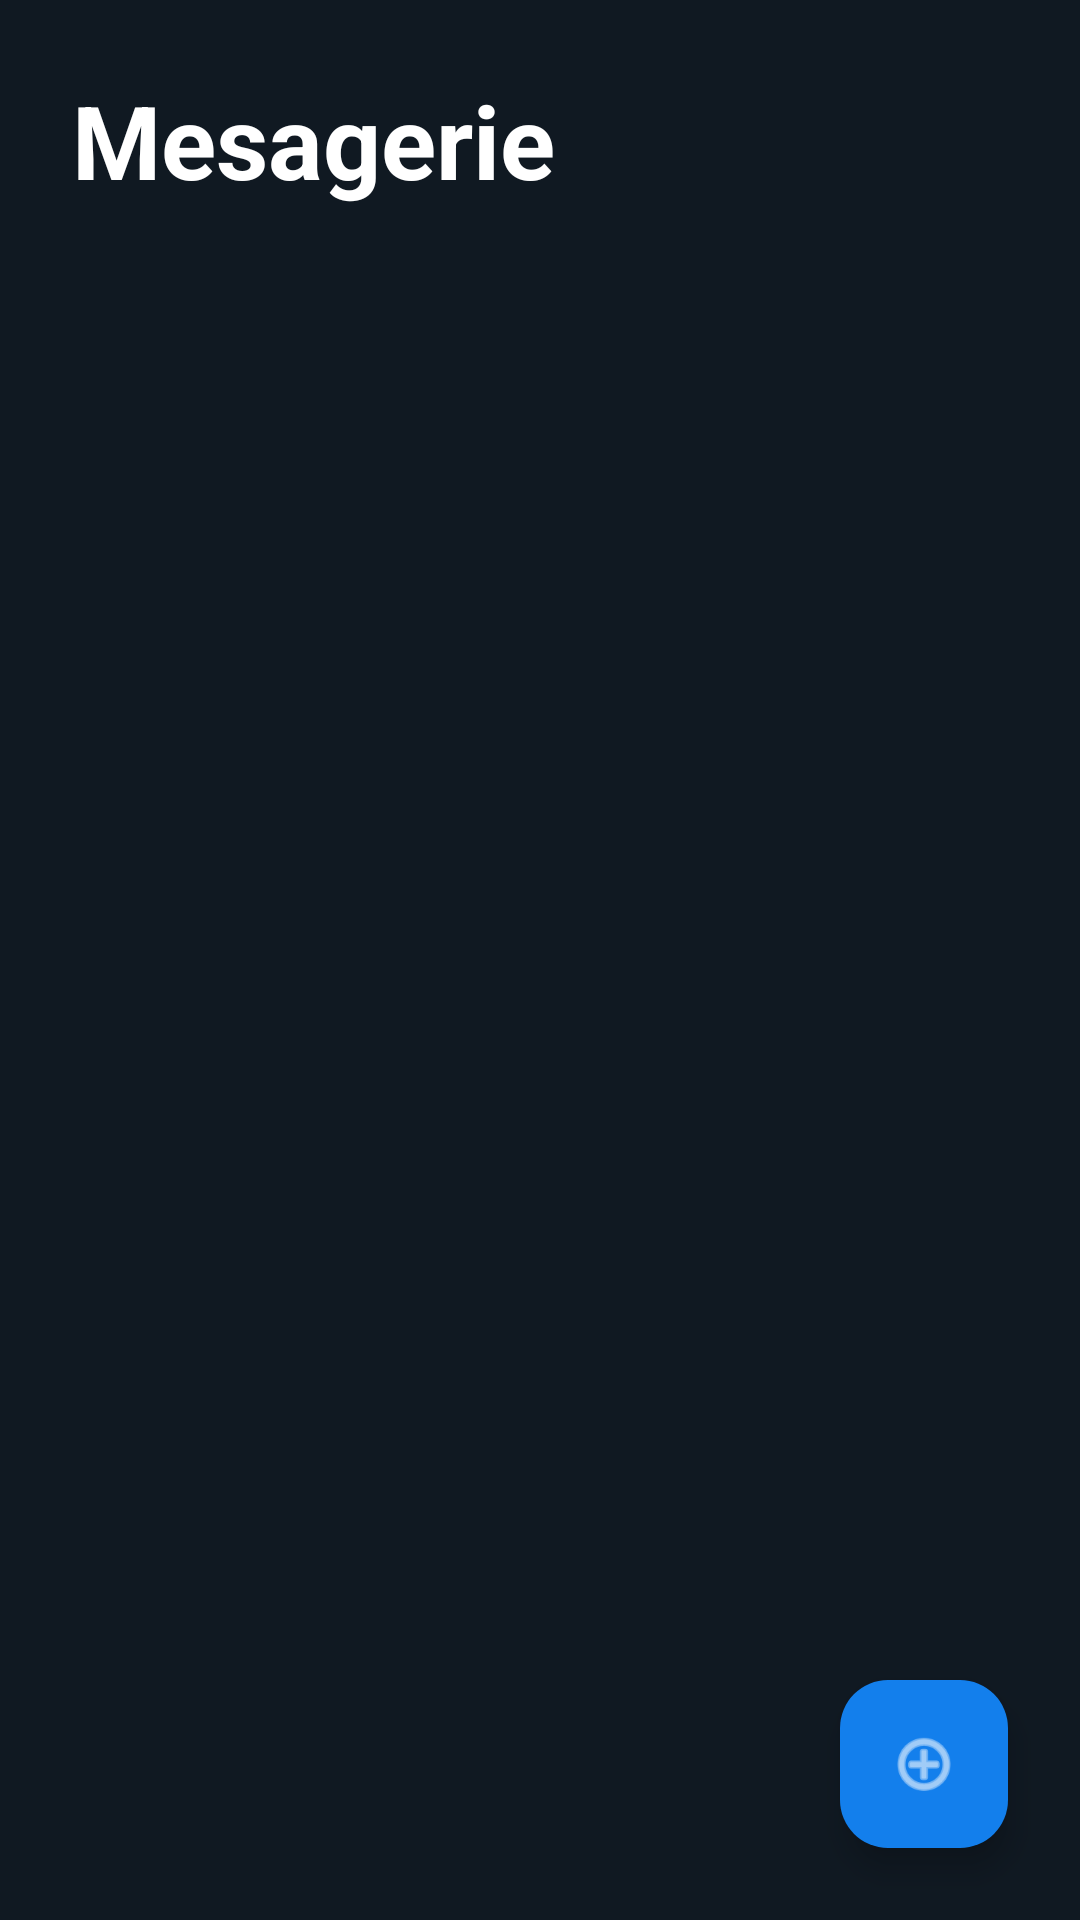

Screen size 1080x1920. Icon name, then its box in pixels as (x1, y1, x2, y2):
New Chat: (840, 1680, 1008, 1848)
